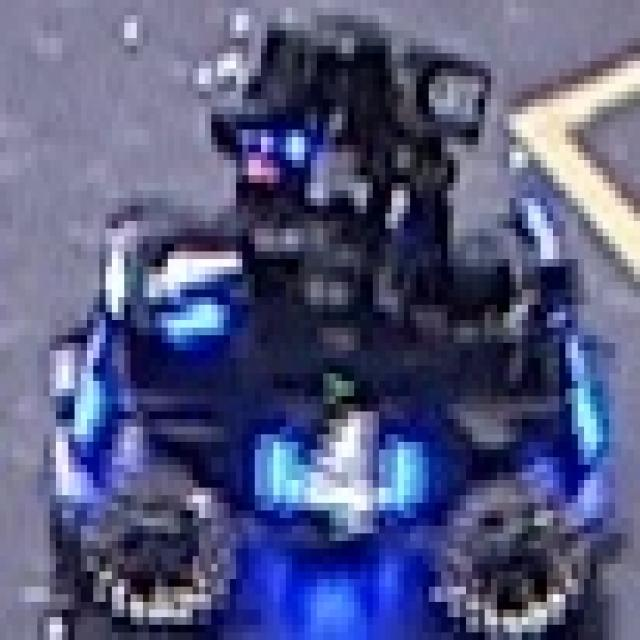B4: (242, 396, 429, 549), (118, 214, 249, 350)
